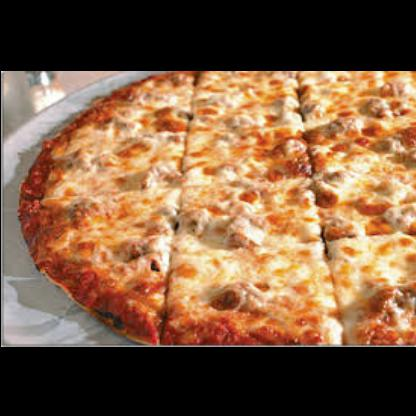pizza: (17, 68, 415, 345)
